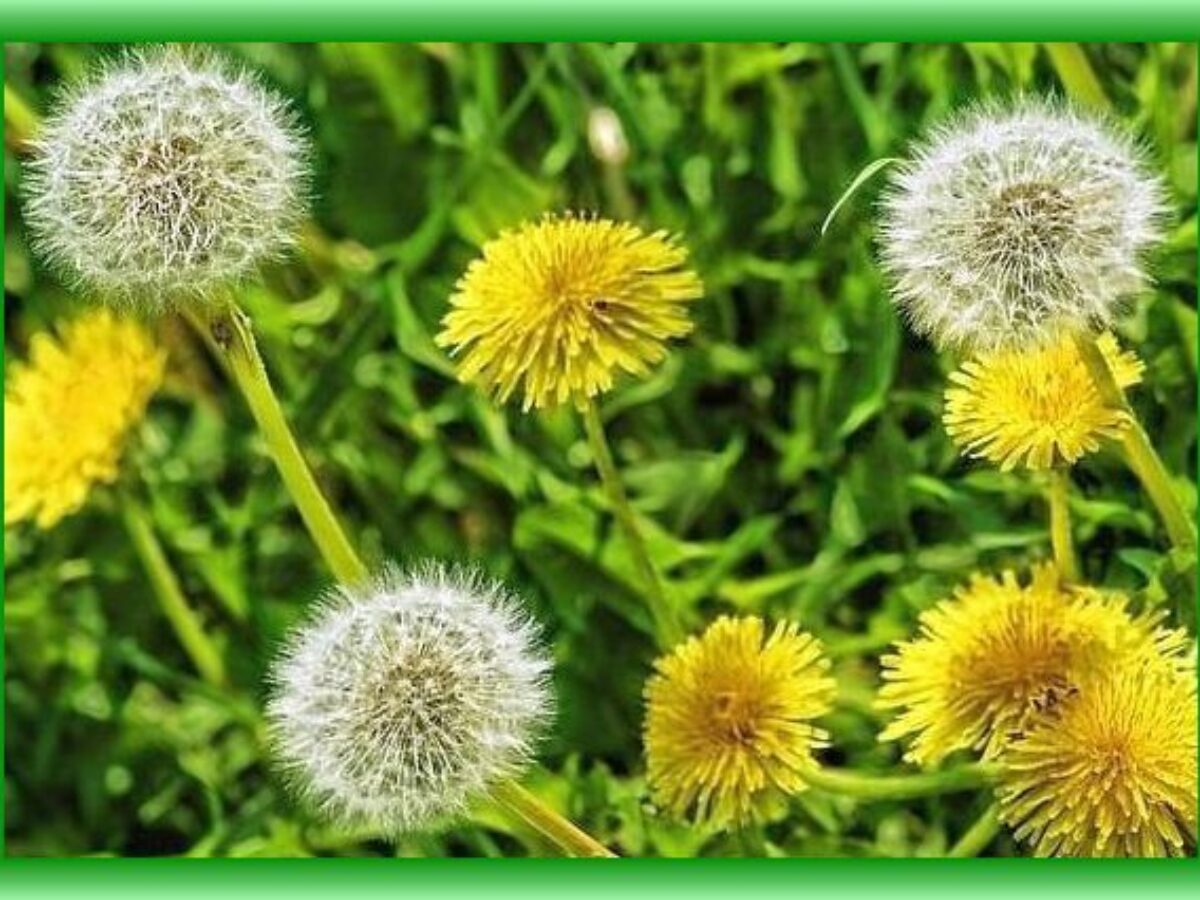begonvil: (241, 556, 556, 858), (23, 46, 310, 322), (873, 98, 1164, 354), (856, 538, 1182, 744), (436, 188, 684, 446), (953, 640, 1200, 876), (628, 608, 872, 836), (931, 323, 1174, 502), (6, 318, 174, 560)
